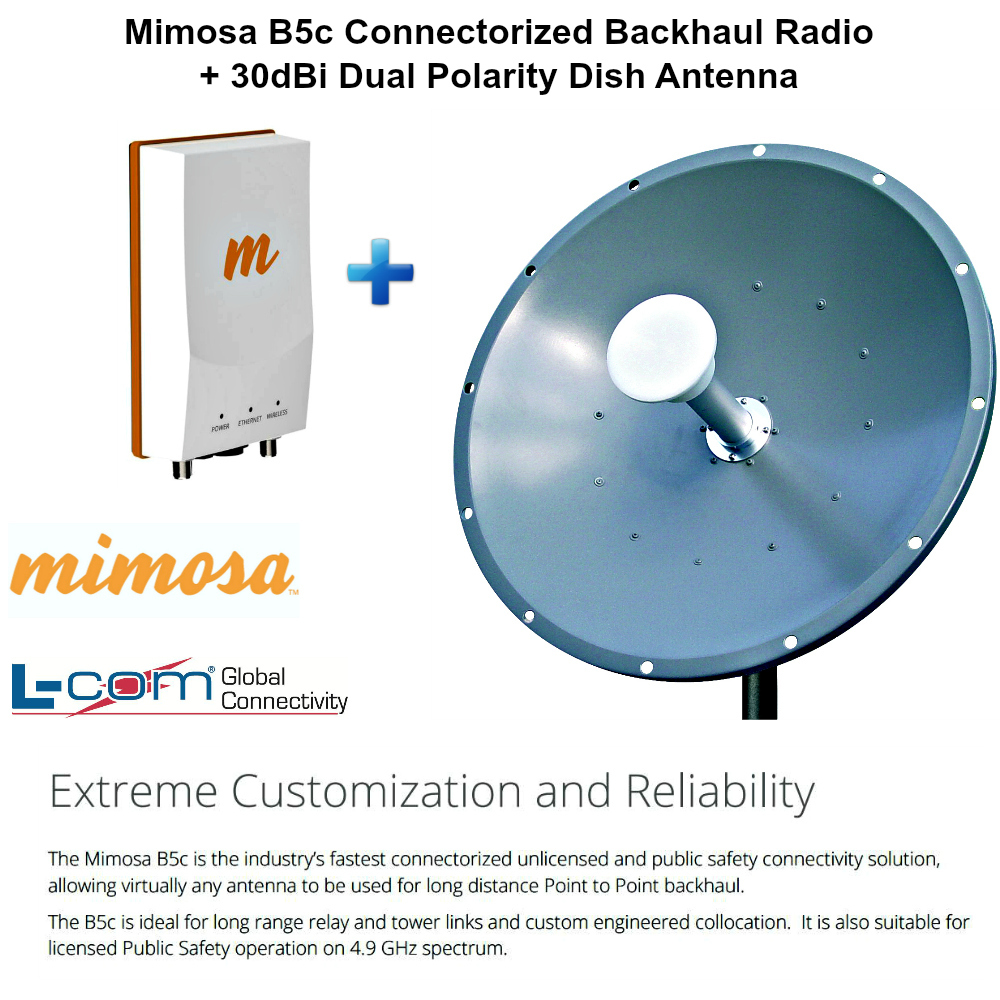ba: (439, 120, 999, 736)
